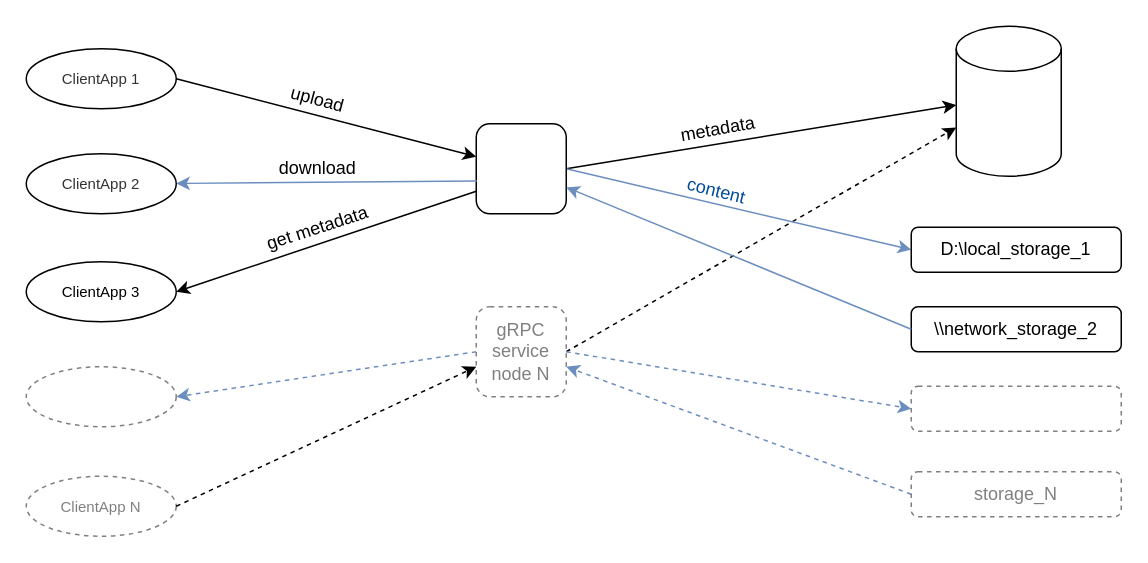
The diagram is 1148 pixels wide and 563 high, and some of its shapes have lost their labels. Here are the shapes that lost their labels. From the top down, the centre of each, then its label:
At point (1008, 100): "Database SQL / NoSQL".
At point (520, 168): "gRPC service node 1".
At point (100, 396): "ClientApp ...".
At point (1015, 408): "storage ...".
